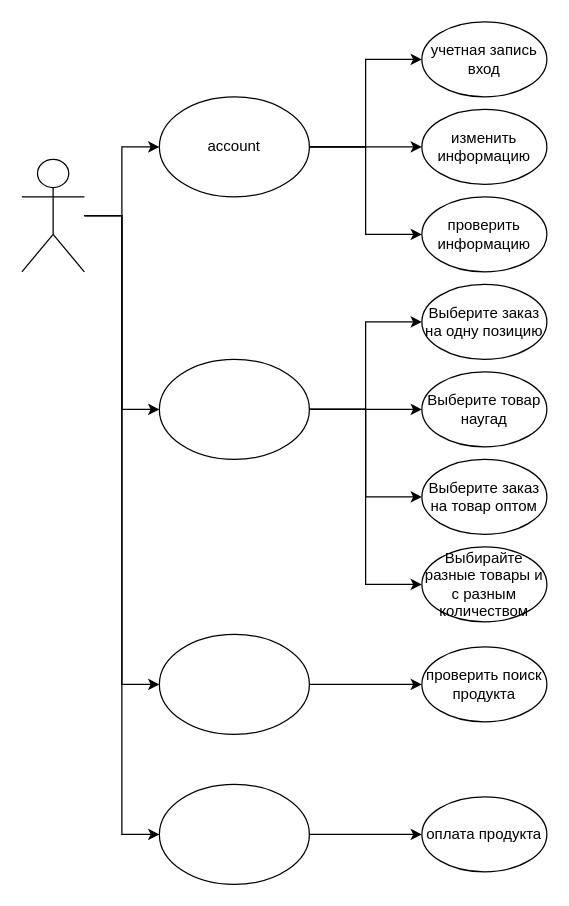
Image size: 569x906. Some labels were removed from this diagram. Each missing label, with the centre of its shape:
user: (52,215)
выберите продукт: (233,408)
Искать продукт: (233,683)
купить товар: (233,833)
